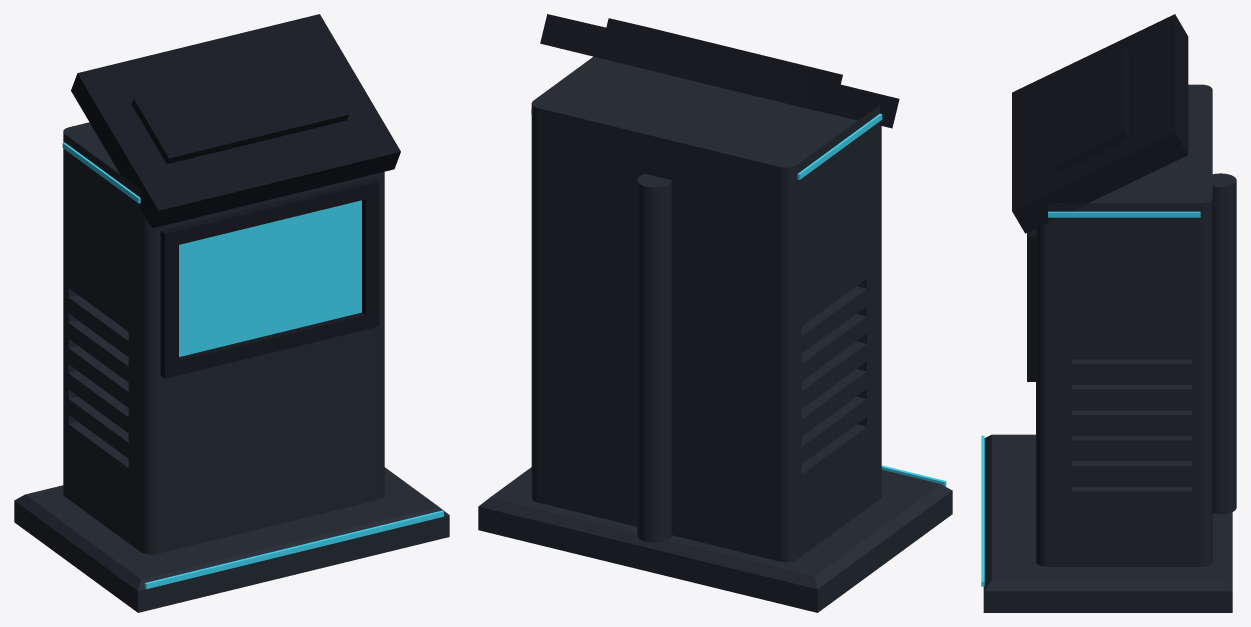
File: terminal.glb
3 views of the same model, side by side, from view 1: azimuth 30°, elevation 25°; view 2: azimuth 150°, elevation 25°; view 3: azimuth 270°, elevation 25° (orthographic). The views are drawn at different scales.
Parts seen in each view (by area): view 1: Body, Console, Plinth, Screen, Keypad, Bezel, TrimBase, TrimSideL; view 2: Body, Plinth, Conduit, Console, Keypad, TrimSideL; view 3: Body, Plinth, Console, Conduit, Keypad, Bezel, TrimSideR, TrimBase.
Part boxes in pixels (x1,y1,x2,y2): Body: (63,122,384,554); Console: (71,14,400,228); Plinth: (14,467,449,612); Screen: (179,200,361,356); Keypad: (131,54,348,164); Bezel: (160,178,379,378); TrimBase: (144,510,443,589); TrimSideL: (62,142,140,203); Body: (531,56,881,562); Plinth: (478,467,952,612); Conduit: (637,174,671,542); Console: (540,14,899,128); Keypad: (606,18,842,84); TrimSideL: (797,113,882,179); Body: (1036,84,1212,566); Plinth: (983,434,1232,612); Console: (1012,14,1188,233); Conduit: (1212,173,1236,514); Keypad: (1053,44,1128,173); Bezel: (1027,228,1035,381); TrimSideR: (1048,211,1200,217); TrimBase: (981,435,984,586).
Size of the model in its own units: 0.9 by 1.27 by 0.636.
